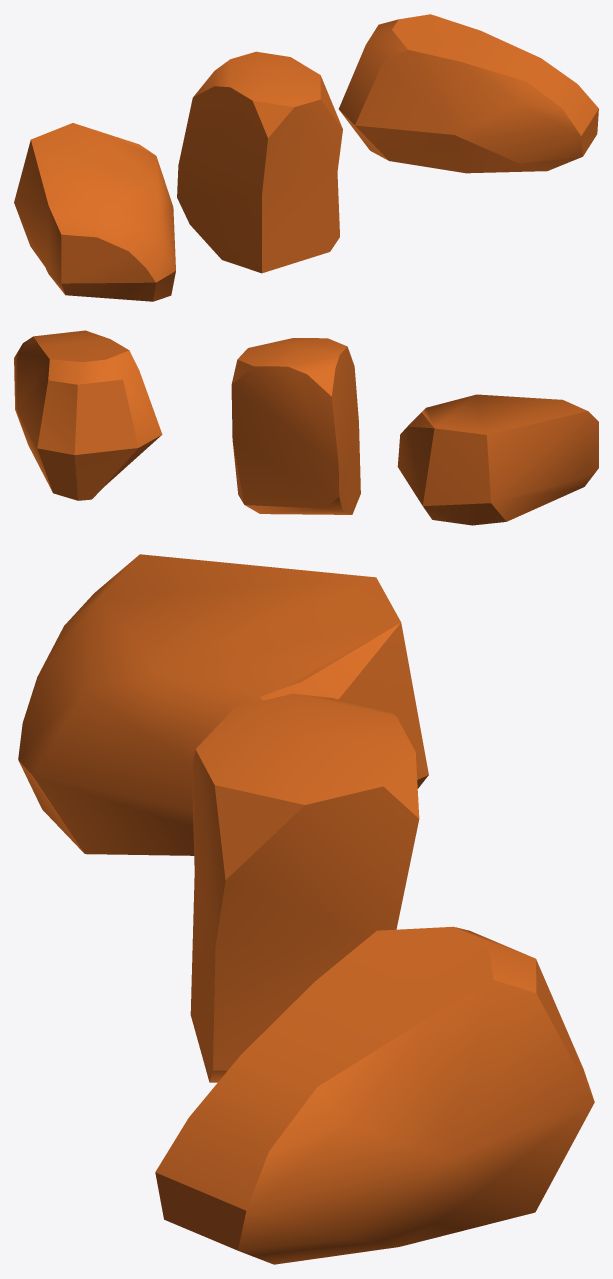
The model's file is OBJ_SmallRock_07.FBX.
3 renders of one model, top to bottom at view 1: azimuth 30°, elevation 25°; view 2: azimuth 150°, elevation 25°; view 3: azimuth 270°, elevation 25°, orthographic. The views are drawn at different scales.
Parts seen in each view (by area): view 1: OBJ_SmallRock_07; view 2: OBJ_SmallRock_07; view 3: OBJ_SmallRock_07.
Boxes of the visible parts, x1,y1,x2,y2 form: OBJ_SmallRock_07: (14,14,598,301); OBJ_SmallRock_07: (14,330,598,525); OBJ_SmallRock_07: (18,554,594,1264).
Size of the model in its own units: 4.13 by 1.2 by 1.88.
